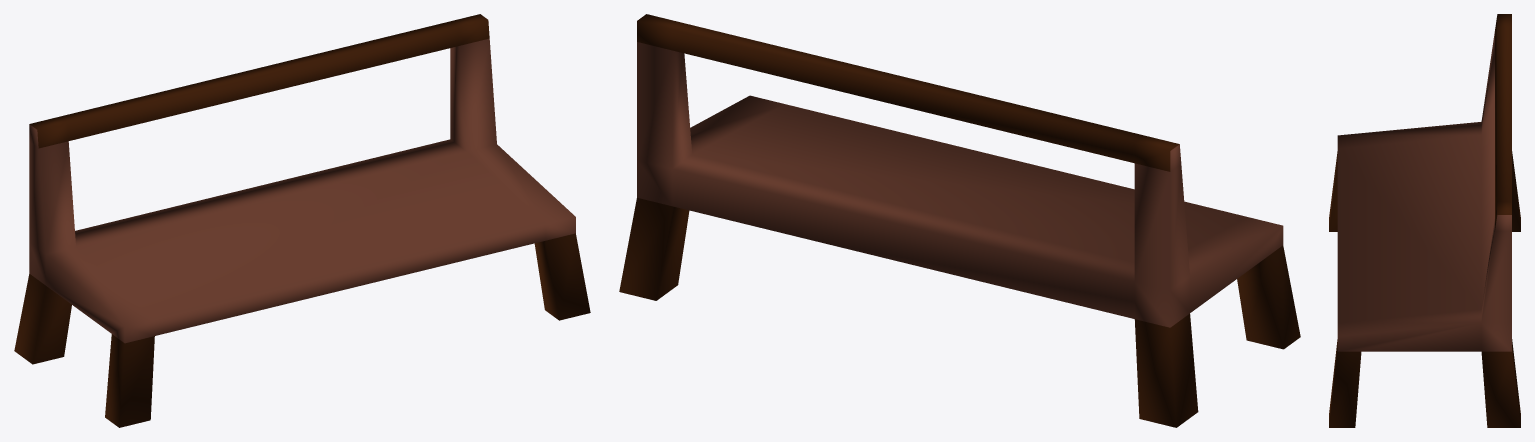
The model's file is WoodBench.glb.
3 views of the same model, side by side, from view 1: azimuth 30°, elevation 25°; view 2: azimuth 150°, elevation 25°; view 3: azimuth 270°, elevation 25° (orthographic). The views are drawn at different scales.
Visible parts, largest first — view 1: WoodBench; view 2: WoodBench; view 3: WoodBench.
Part boxes in pixels (x1,y1,x2,y2): WoodBench: [14, 14, 590, 427]; WoodBench: [619, 14, 1300, 427]; WoodBench: [1329, 14, 1520, 427].
Size of the model in its own units: 3.14 by 1.45 by 1.21.
Materials: 1 (1 with a texture image).
